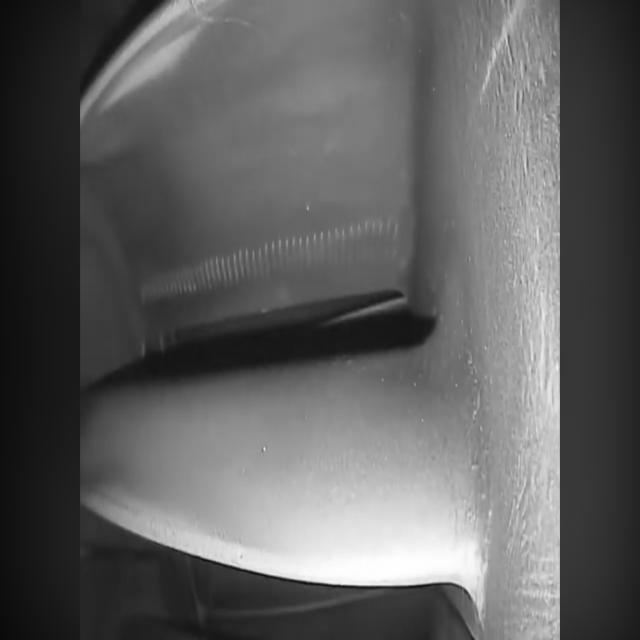crack: (188, 0, 265, 31)
turbine_blade: (81, 269, 490, 631), (78, 3, 428, 331)
